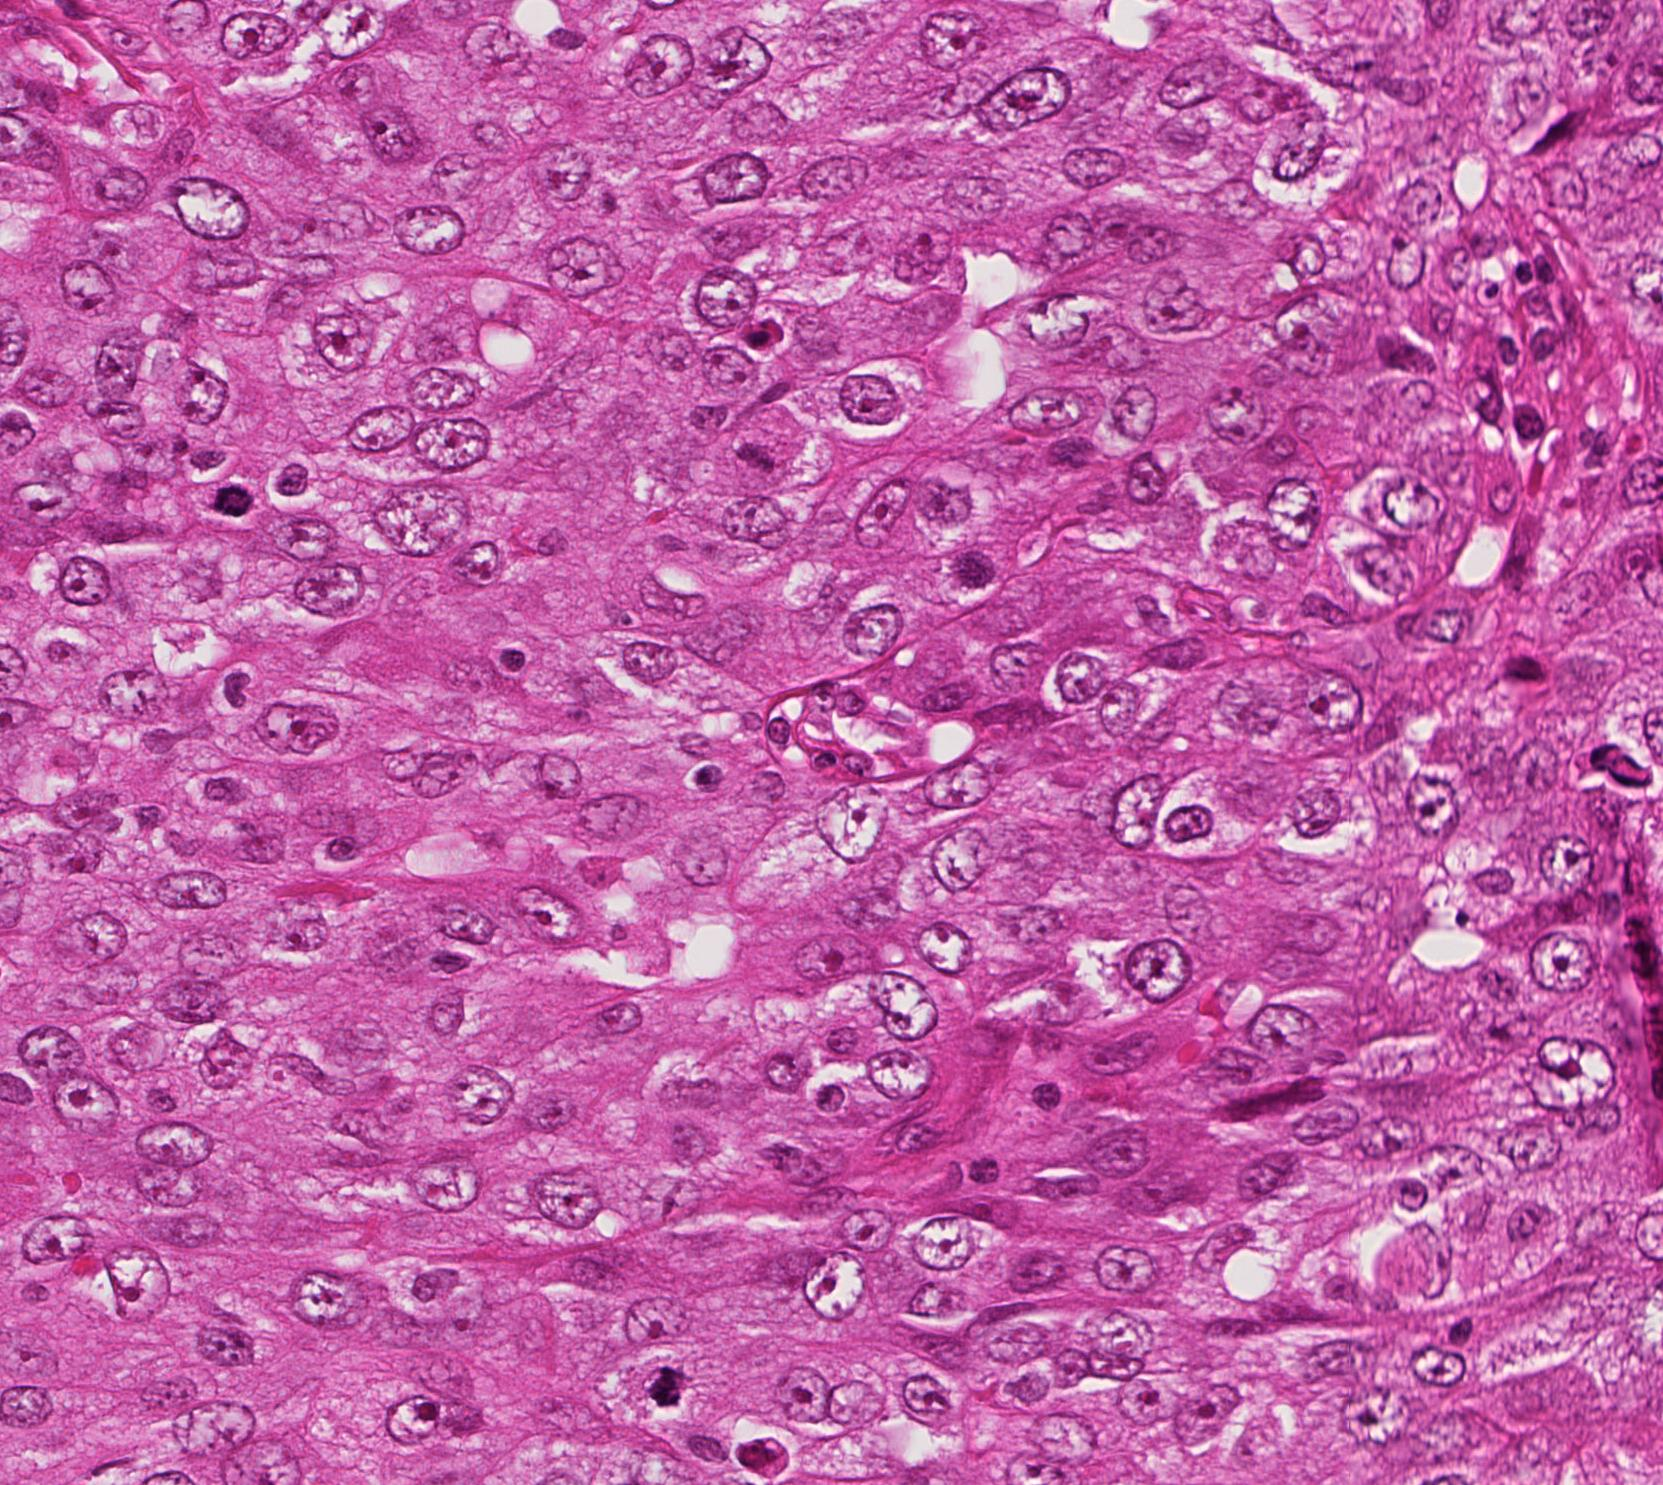mitosis: (195, 473, 255, 533), (727, 426, 787, 486), (637, 1355, 695, 1413)
